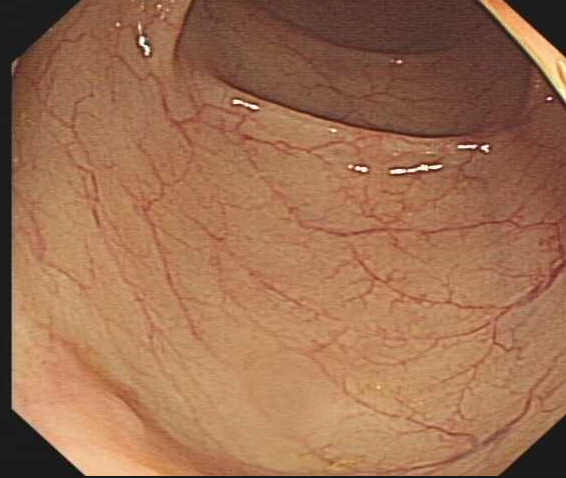others: (245, 350, 329, 440)
